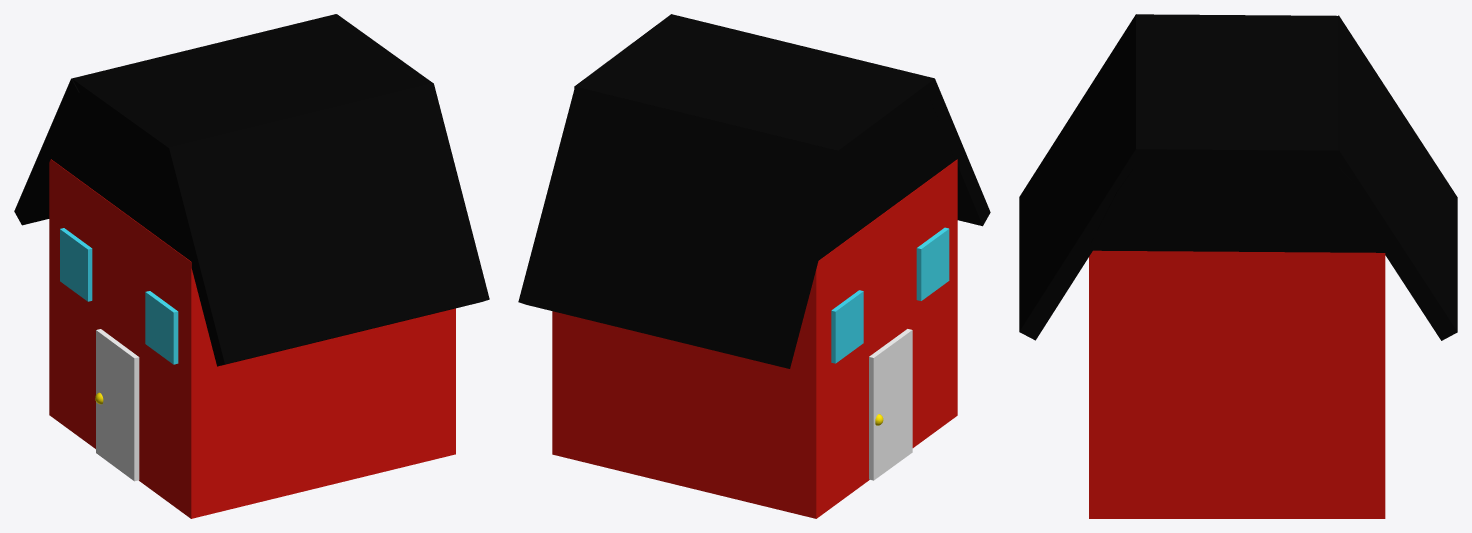
The model's file is House2.fbx.
3 views of the same model, side by side, from view 1: azimuth 30°, elevation 25°; view 2: azimuth 150°, elevation 25°; view 3: azimuth 270°, elevation 25° (orthographic). The views are drawn at different scales.
Parts seen in each view (by area): view 1: Cube.001, Cube, Cube.002, Cube.004, Cube.003; view 2: Cube.001, Cube, Cube.002, Cube.004, Cube.003; view 3: Cube.001, Cube.
Part boxes in pixels (box(x1,y1,x2,y2)): Cube.001: box(14, 14, 489, 366); Cube: box(49, 159, 455, 518); Cube.002: box(96, 329, 139, 481); Cube.004: box(145, 291, 178, 364); Cube.003: box(60, 228, 92, 301); Cube.001: box(518, 14, 990, 368); Cube: box(552, 159, 957, 518); Cube.002: box(869, 329, 912, 480); Cube.004: box(916, 227, 949, 300); Cube.003: box(831, 290, 863, 363); Cube.001: box(1019, 14, 1457, 340); Cube: box(1089, 250, 1385, 518).
Size of the model in its own units: 710 by 871 by 935.
